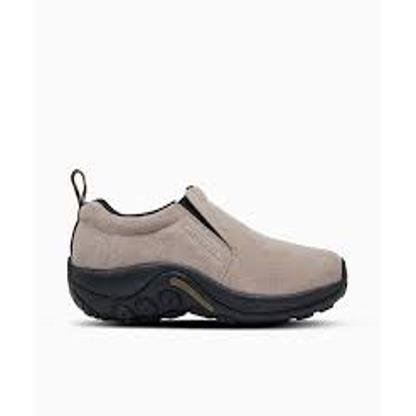not trash: (66, 170, 347, 331)
